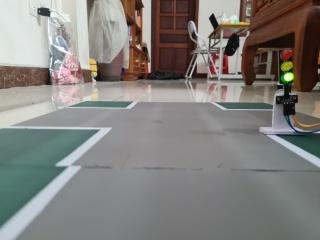green: (269, 40, 302, 108)
